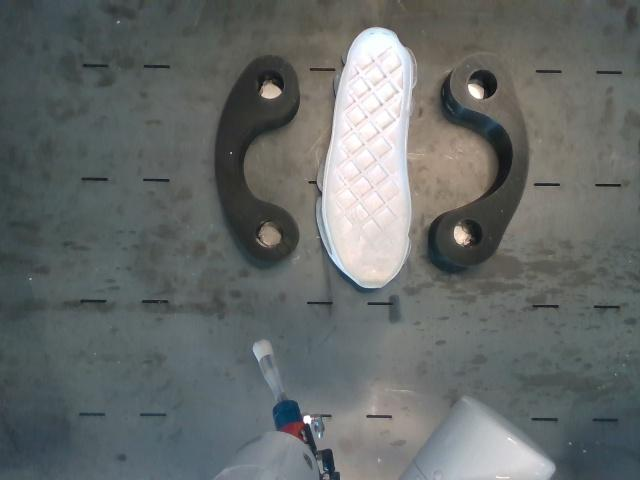shoes: (325, 28, 411, 287)
